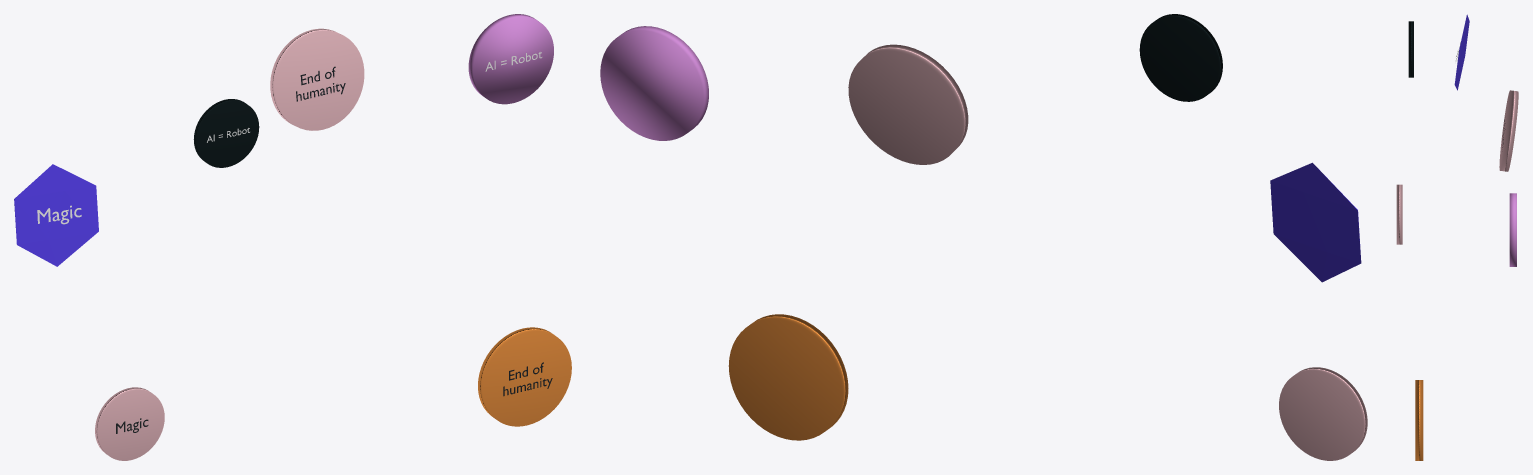
3 views of the same model, side by side, from view 1: azimuth 30°, elevation 25°; view 2: azimuth 150°, elevation 25°; view 3: azimuth 270°, elevation 25° (orthographic). The views are drawn at different scales.
Visible parts, largest first — view 1: Cylinder.001, Cylinder.003, Icosphere, Text.002, Cylinder.002, Cylinder.005; view 2: Cylinder.003, Cylinder.001, Text.002, Icosphere, Cylinder.002, Cylinder.005; view 3: Cylinder.001, Cylinder.003, Text.002, Icosphere, Cylinder.002, Cylinder.005.
Boxes of the visible parts, x1=… form: Cylinder.001: x1=270, y1=28, x2=364, y2=130; Cylinder.003: x1=478, y1=327, x2=571, y2=426; Icosphere: x1=14, y1=164, x2=98, y2=266; Text.002: x1=468, y1=14, x2=553, y2=104; Cylinder.002: x1=95, y1=387, x2=164, y2=460; Cylinder.005: x1=193, y1=99, x2=259, y2=167; Cylinder.003: x1=728, y1=314, x2=848, y2=440; Cylinder.001: x1=848, y1=44, x2=968, y2=164; Text.002: x1=600, y1=26, x2=708, y2=140; Icosphere: x1=1270, y1=162, x2=1361, y2=282; Cylinder.002: x1=1279, y1=367, x2=1367, y2=460; Cylinder.005: x1=1139, y1=14, x2=1222, y2=101; Cylinder.001: x1=1499, y1=90, x2=1518, y2=171; Cylinder.003: x1=1415, y1=380, x2=1423, y2=460; Text.002: x1=1509, y1=193, x2=1516, y2=266; Icosphere: x1=1454, y1=14, x2=1469, y2=90; Cylinder.002: x1=1396, y1=184, x2=1402, y2=244; Cylinder.005: x1=1408, y1=21, x2=1413, y2=77.
Size of the model in its own units: 7.4 by 5.01 by 1.75.
